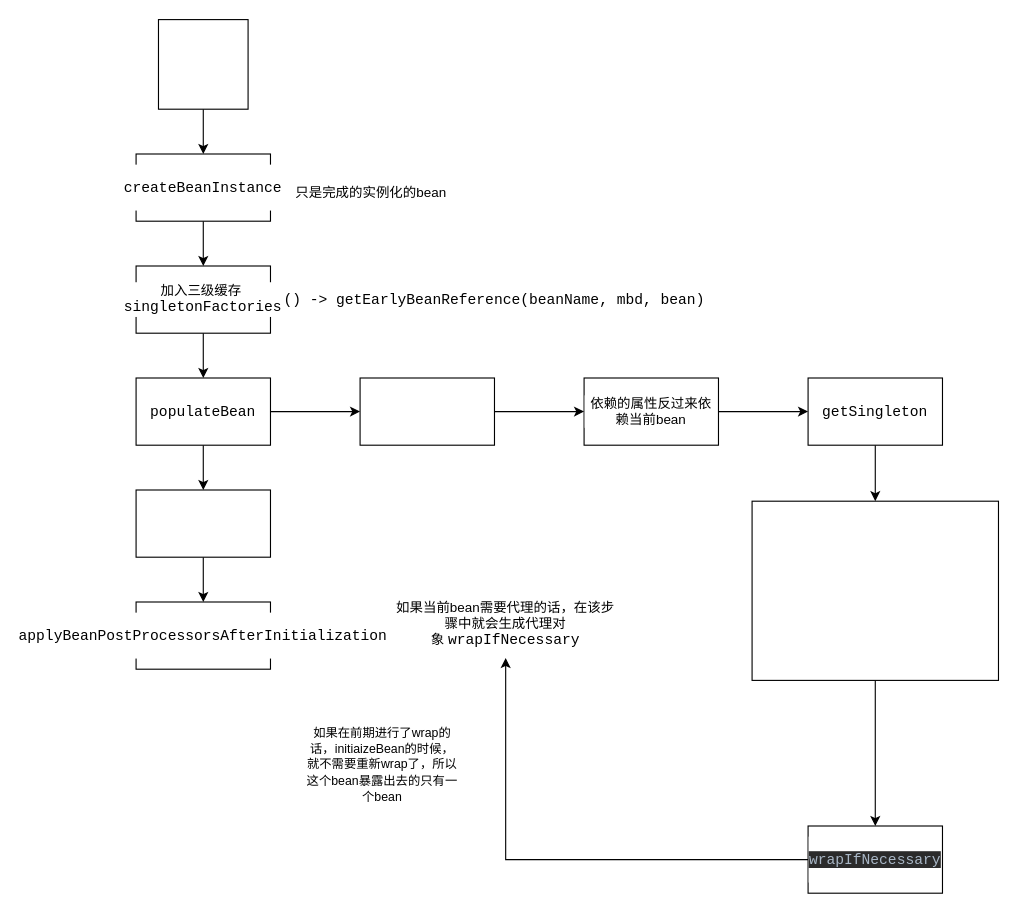
Image size: 1029x913. Some labels were removed from this diagram. The centre of each missing label's shape, as x and y in pixels:
"doCreateBean" goes at point 202,63.
"initializeBean" goes at point 202,523.
"从singletonFactories中获取lambda getEarlyBeanReference" goes at point 874,590.
"创建依赖的属性" goes at point 426,411.
